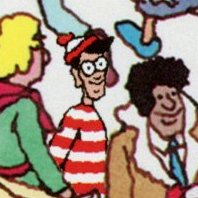waldo: (71, 35, 106, 102)
